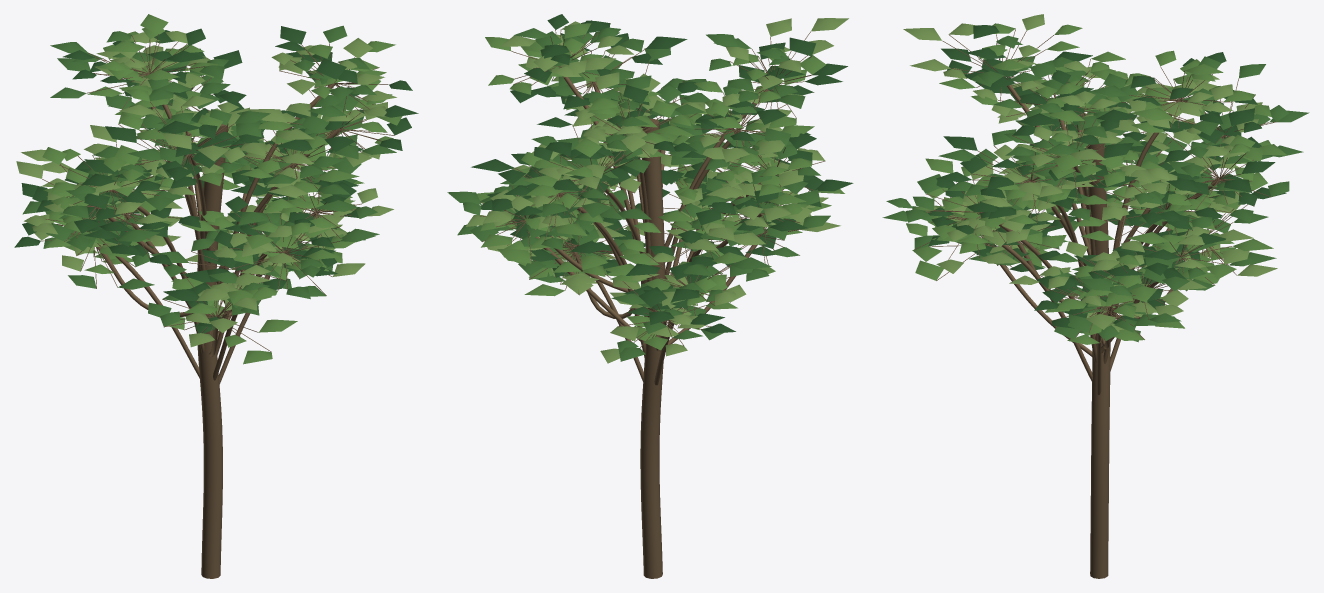
The model's file is atrium_ficus_dense.glb.
3 renders of one model, left to right at view 1: azimuth 30°, elevation 25°; view 2: azimuth 150°, elevation 25°; view 3: azimuth 270°, elevation 25°, orthographic. The views are drawn at different scales.
Visible parts, largest first — view 1: atrium_ficus_dense_Broad_curved_ficus_0, atrium_ficus_dense_Broad_curved_ficus_1, atrium_ficus_dense_Broad_curved_ficus_3, atrium_ficus_dense_Broad_curved_ficus_2, atrium_ficus_dense_Connected_ficus_bark; view 2: atrium_ficus_dense_Broad_curved_ficus_1, atrium_ficus_dense_Broad_curved_ficus_0, atrium_ficus_dense_Broad_curved_ficus_3, atrium_ficus_dense_Broad_curved_ficus_2, atrium_ficus_dense_Connected_ficus_bark; view 3: atrium_ficus_dense_Broad_curved_ficus_2, atrium_ficus_dense_Broad_curved_ficus_3, atrium_ficus_dense_Broad_curved_ficus_0, atrium_ficus_dense_Broad_curved_ficus_1, atrium_ficus_dense_Connected_ficus_bark.
Boxes of the visible parts, x1,y1,x2,y2 form: atrium_ficus_dense_Broad_curved_ficus_0: [14, 26, 418, 333]; atrium_ficus_dense_Broad_curved_ficus_1: [22, 25, 396, 326]; atrium_ficus_dense_Broad_curved_ficus_3: [16, 31, 396, 347]; atrium_ficus_dense_Broad_curved_ficus_2: [42, 14, 402, 364]; atrium_ficus_dense_Connected_ficus_bark: [32, 34, 394, 578]; atrium_ficus_dense_Broad_curved_ficus_1: [447, 27, 830, 361]; atrium_ficus_dense_Broad_curved_ficus_0: [471, 14, 853, 333]; atrium_ficus_dense_Broad_curved_ficus_3: [465, 18, 848, 363]; atrium_ficus_dense_Broad_curved_ficus_2: [477, 23, 844, 350]; atrium_ficus_dense_Connected_ficus_bark: [480, 23, 825, 578]; atrium_ficus_dense_Broad_curved_ficus_2: [906, 23, 1287, 344]; atrium_ficus_dense_Broad_curved_ficus_3: [903, 14, 1277, 332]; atrium_ficus_dense_Broad_curved_ficus_0: [928, 25, 1286, 328]; atrium_ficus_dense_Broad_curved_ficus_1: [882, 35, 1309, 342]; atrium_ficus_dense_Connected_ficus_bark: [913, 28, 1276, 578].
Bounding box in the file's own units: 3.69 × 5.34 × 4.06.
